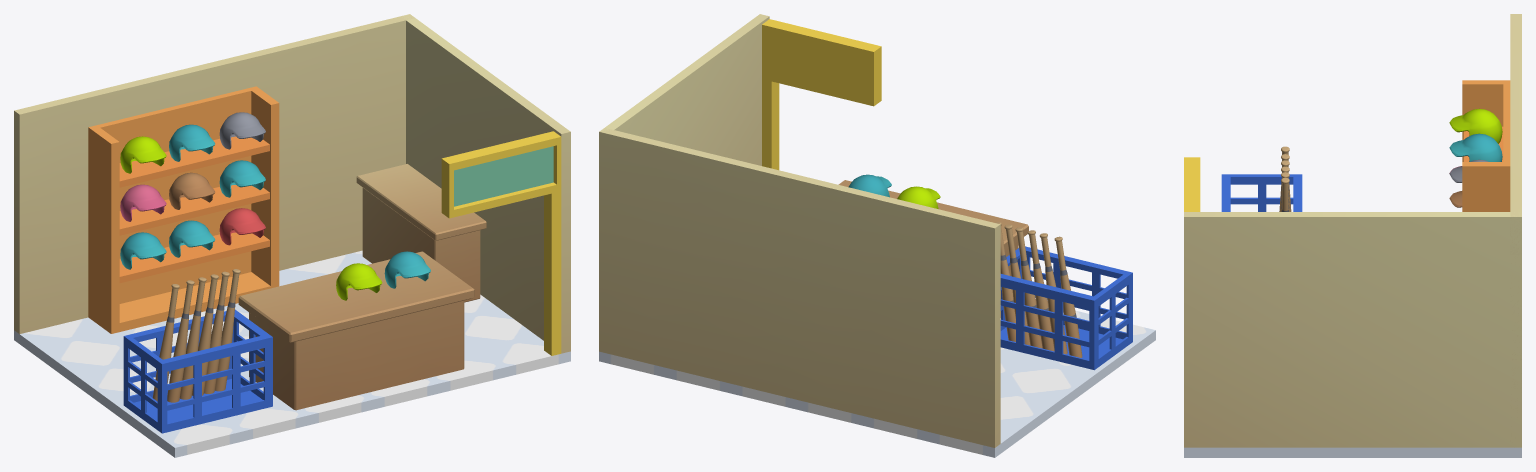
Rendered from BaseBall_Counter.fbx.
The picture shows the model from 3 angles, left to right: view 1: azimuth 30°, elevation 25°; view 2: azimuth 150°, elevation 25°; view 3: azimuth 270°, elevation 25°; orthographic projection. The views are drawn at different scales.
Visible parts, largest first — view 1: pCube3, pCube13, pCube5, pCube2, pCube1, pCube15, pCube14, pCube6, Helmet_08, Helmet_03, Helmet_02, Helmet_07 (+13 smaller); view 2: pCube3, pCube2, pCube1, pCube15, pCube14, pCube5, Baseball_07, Baseball_05, Baseball_04, Baseball_02, Baseball_06, Helmet_10 (+2 smaller); view 3: pCube2, pCube13, pCube1, pCube3, pCube15, Helmet_07, Helmet_08, pCube14.
Part boxes in pixels (<box>): pCube3: <box>14,14,414,334</box>; pCube13: <box>88,86,279,333</box>; pCube5: <box>238,251,474,410</box>; pCube2: <box>401,14,570,353</box>; pCube1: <box>14,250,570,457</box>; pCube15: <box>123,309,272,433</box>; pCube14: <box>441,131,561,355</box>; pCube6: <box>356,164,486,302</box>; Helmet_08: <box>169,124,215,161</box>; Helmet_03: <box>120,184,166,221</box>; Helmet_02: <box>169,172,215,209</box>; Helmet_07: <box>120,136,166,173</box>; pCube3: <box>599,128,1000,447</box>; pCube2: <box>600,14,769,165</box>; pCube1: <box>599,310,1155,457</box>; pCube15: <box>1000,246,1132,370</box>; pCube14: <box>762,19,881,170</box>; pCube5: <box>838,180,1028,317</box>; Baseball_07: <box>1054,236,1082,357</box>; Baseball_05: <box>1027,230,1054,351</box>; Baseball_04: <box>1015,227,1042,348</box>; Baseball_02: <box>995,222,1015,341</box>; Baseball_06: <box>1039,233,1067,354</box>; Helmet_10: <box>897,186,940,208</box>; pCube2: <box>1184,212,1521,447</box>; pCube13: <box>1462,80,1510,211</box>; pCube1: <box>1184,447,1521,457</box>; pCube3: <box>1510,14,1521,384</box>; pCube15: <box>1221,174,1302,211</box>; Helmet_07: <box>1449,108,1502,143</box>; Helmet_08: <box>1449,133,1502,161</box>; pCube14: <box>1184,157,1200,211</box>.
Bounding box in the file's own units: 641 × 355 × 451.
Materials: 4 (4 with a texture image).
